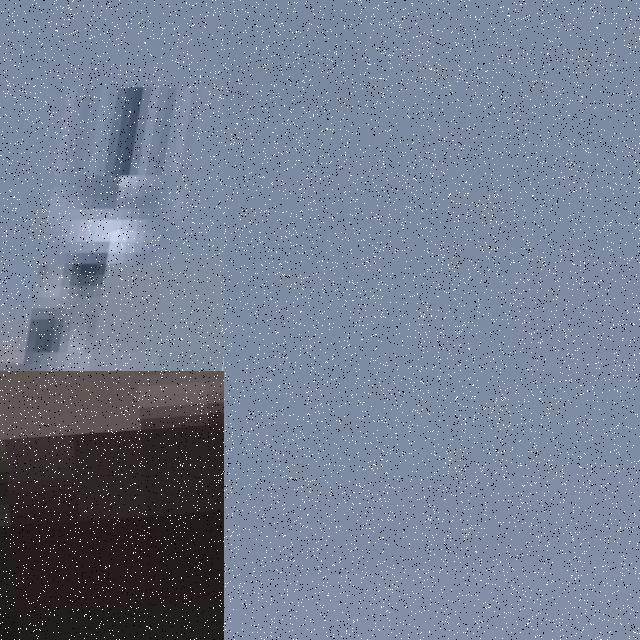drone: (0, 0, 224, 371)
